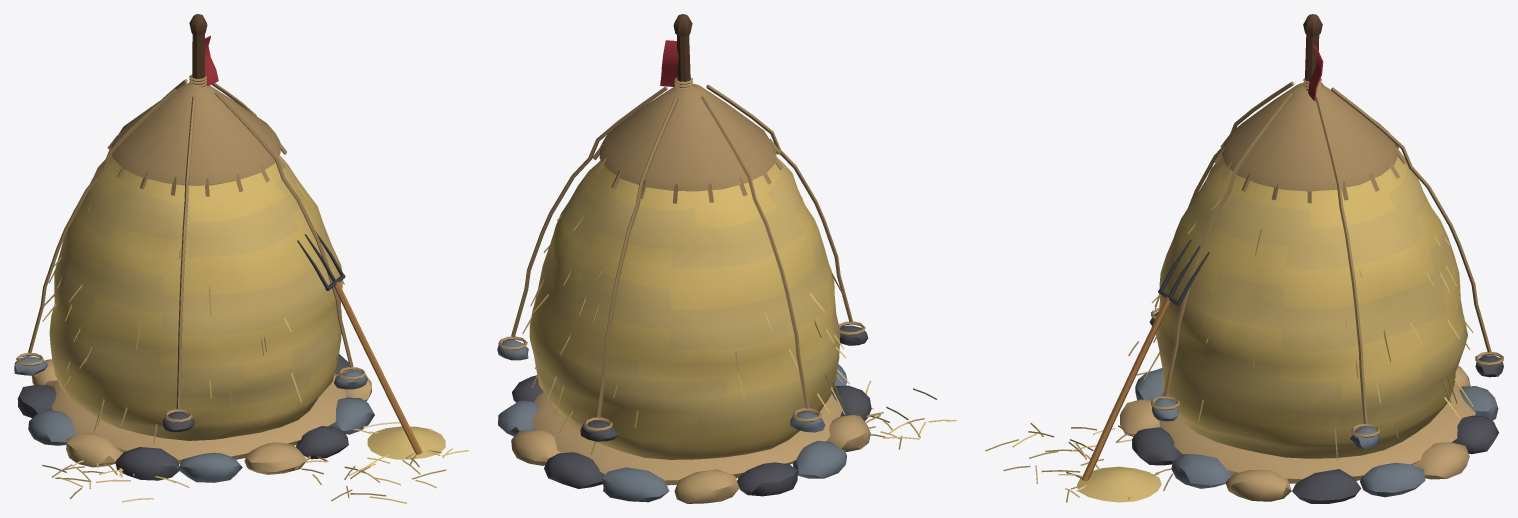
The model's file is deco_fodder_stack.fbx.
3 views of the same model, side by side, from view 1: azimuth 30°, elevation 25°; view 2: azimuth 150°, elevation 25°; view 3: azimuth 270°, elevation 25° (orthographic). The views are drawn at different scales.
Visible parts, largest first — view 1: FodderStack_Stack, FodderStack_Base, FodderStack_Ropes, FodderStack_LooseHay, FodderStack_Pitchfork, FodderStack_Pole; view 2: FodderStack_Stack, FodderStack_Base, FodderStack_Ropes, FodderStack_Pole, FodderStack_LooseHay; view 3: FodderStack_Stack, FodderStack_Base, FodderStack_Ropes, FodderStack_LooseHay, FodderStack_Pitchfork, FodderStack_Pole.
Boxes of the visible parts, x1,y1,x2,y2 form: FodderStack_Stack: (42,83,344,443); FodderStack_Base: (17,354,374,482); FodderStack_Ropes: (14,79,367,432); FodderStack_LooseHay: (42,421,468,503); FodderStack_Pitchfork: (297,232,422,454); FodderStack_Pole: (189,14,218,86); FodderStack_Stack: (522,84,849,459); FodderStack_Base: (498,364,871,503); FodderStack_Ropes: (497,84,868,441); FodderStack_Pole: (660,14,692,90); FodderStack_LooseHay: (865,380,956,449); FodderStack_Stack: (1144,83,1473,460); FodderStack_Base: (1120,365,1498,503); FodderStack_Ropes: (1149,81,1503,449); FodderStack_LooseHay: (985,341,1172,502); FodderStack_Pitchfork: (1081,239,1209,481); FodderStack_Pole: (1303,14,1323,101).
Bounding box in the file's own units: 321 × 347 × 394.
